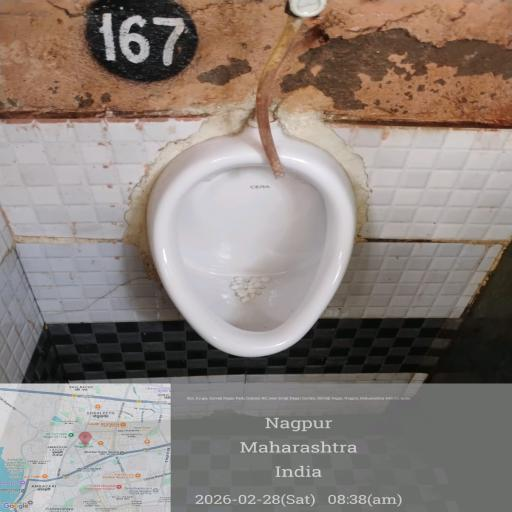clean_floor: (57, 328, 440, 512)
clean_urinal: (109, 120, 368, 349)
partial_dirty_floor: (1, 16, 512, 187)
